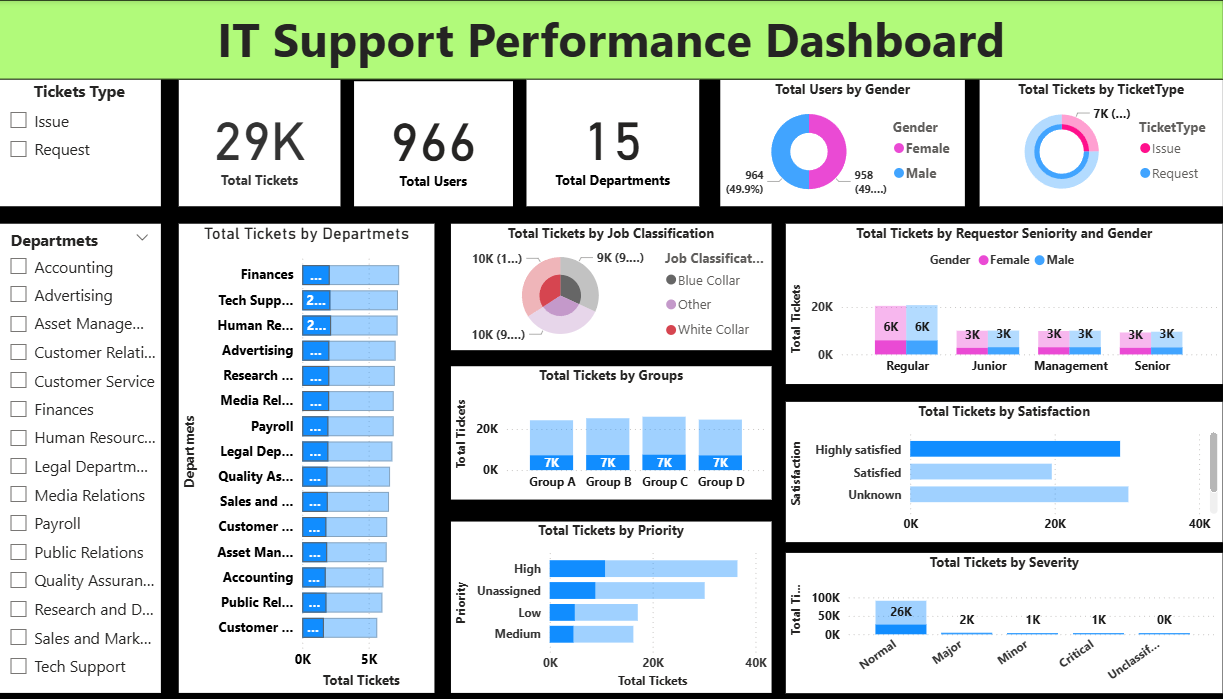

What the dashboard file says about the page in this screenshot:
{"tool":"powerbi","page":{"name":"Page1","canvas":[1280,720],"ordinal":0},"visuals":[{"type":"card","fields":{"Values":["Calculations.Total Tickets"]},"box":[206.9,81.3,164.1,128.4],"z":0},{"type":"donutChart","fields":{"Category":["IT-Help-Desk.TicketType"],"Y":["Calculations.Total Tickets"]},"box":[1020.3,81.3,246.9,128.4],"z":1000},{"type":"pieChart","fields":{"Category":["IT-Help-Desk.Job Classification"],"Y":["Calculations.Total Tickets"]},"box":[483.7,226.9,325.4,128.4],"z":2000},{"type":"clusteredBarChart","fields":{"Category":["IT-Help-Desk.Satisfaction"],"Y":["Calculations.Total Tickets"]},"box":[823.4,408.1,443.8,142.7],"z":3000},{"type":"clusteredBarChart","fields":{"Category":["IT-Help-Desk.Priority"],"Y":["Calculations.Total Tickets"]},"box":[483.7,529.4,325.4,174.1],"z":4000},{"type":"columnChart","fields":{"Category":["IT-Help-Desk.Groups"],"Y":["Calculations.Total Tickets"]},"box":[483.7,372.4,325.4,135.6],"z":5000},{"type":"donutChart","fields":{"Category":["IT-Help-Desk.Gender"],"Y":["Calculations.Total Users"]},"box":[756.3,81.3,248.3,128.4],"z":6000},{"type":"clusteredColumnChart","title":"Total Tickets by Requestor Seniority and Gender","fields":{"Category":["IT-Help-Desk.RequestorSeniority"],"Series":["IT-Help-Desk.Gender"],"Y":["Calculations.Total Tickets"]},"box":[823.4,226.9,443.8,162.7],"z":7000},{"type":"columnChart","fields":{"Category":["IT-Help-Desk.Severity"],"Y":["Calculations.Total Tickets"]},"box":[823.4,560.8,443.8,142.7],"z":8000},{"type":"textbox","box":[23.2,0,1244.6,81],"z":9000},{"type":"slicer","title":"Tickets Type","fields":{"Values":["IT-Help-Desk.TicketType"]},"box":[22.8,81.3,165.5,128.4],"z":10000},{"type":"slicer","fields":{"Values":["IT-Help-Desk.Departmets"]},"box":[22.8,226.9,165.5,476.6],"z":11000},{"type":"card","fields":{"Values":["Calculations.Total Users"]},"box":[385.3,82.8,161.2,127],"z":12000},{"type":"card","fields":{"Values":["Calculations.Total Departments"]},"box":[559.4,81.3,175.5,128.4],"z":13000},{"type":"barChart","fields":{"Y":["Calculations.Total Tickets"],"Category":["IT-Help-Desk.Departmets"]},"box":[206.9,226.9,259.7,476.6],"z":14000}]}

Visuals, with their boxes in screenshot pixels (x1, y1, x2, y2), scaled from the page's 1280x720 canvas onto the 1223x699 screenshot:
card - Calculations.Total Tickets: Rect(198, 79, 354, 204)
donutChart - IT-Help-Desk.TicketType x Calculations.Total Tickets: Rect(975, 79, 1211, 204)
pieChart - IT-Help-Desk.Job Classification x Calculations.Total Tickets: Rect(462, 220, 773, 345)
clusteredBarChart - IT-Help-Desk.Satisfaction x Calculations.Total Tickets: Rect(787, 396, 1211, 535)
clusteredBarChart - IT-Help-Desk.Priority x Calculations.Total Tickets: Rect(462, 514, 773, 683)
columnChart - IT-Help-Desk.Groups x Calculations.Total Tickets: Rect(462, 362, 773, 493)
donutChart - IT-Help-Desk.Gender x Calculations.Total Users: Rect(723, 79, 960, 204)
"Total Tickets by Requestor Seniority and Gender" clusteredColumnChart: Rect(787, 220, 1211, 378)
columnChart - IT-Help-Desk.Severity x Calculations.Total Tickets: Rect(787, 544, 1211, 683)
textbox: Rect(22, 0, 1211, 79)
"Tickets Type" slicer: Rect(22, 79, 180, 204)
slicer - IT-Help-Desk.Departmets: Rect(22, 220, 180, 683)
card - Calculations.Total Users: Rect(368, 80, 522, 204)
card - Calculations.Total Departments: Rect(534, 79, 702, 204)
barChart - Calculations.Total Tickets x IT-Help-Desk.Departmets: Rect(198, 220, 446, 683)
